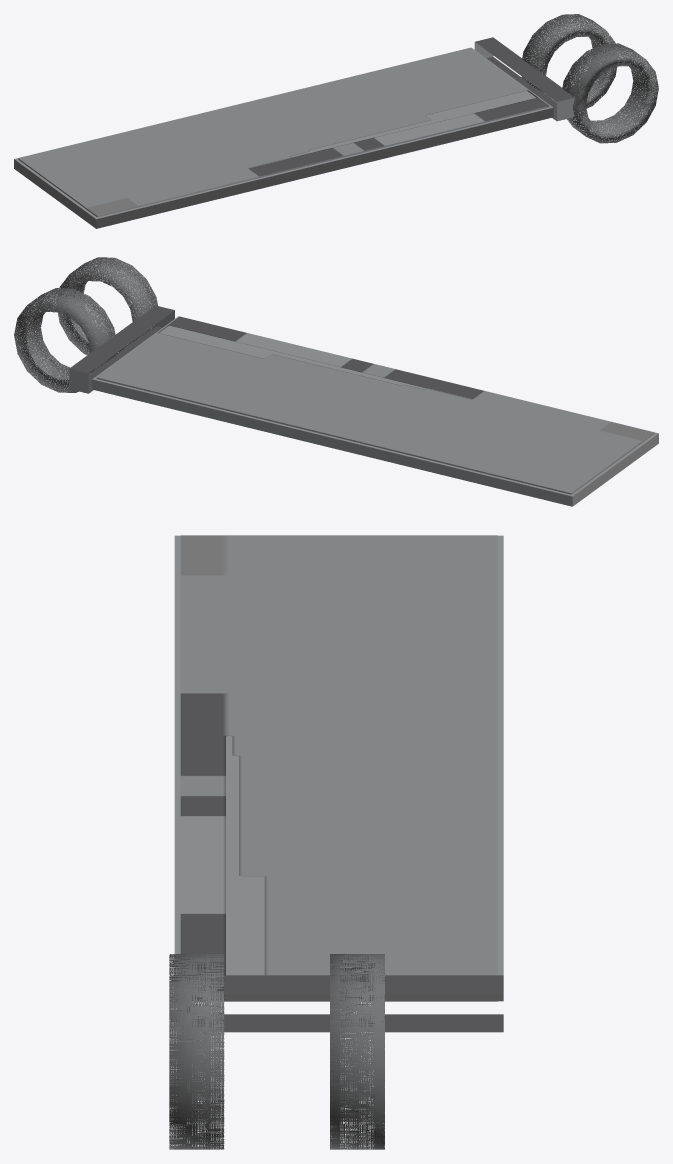
3 views of the same model, one above another, from view 1: azimuth 30°, elevation 25°; view 2: azimuth 150°, elevation 25°; view 3: azimuth 270°, elevation 25° (orthographic). The views are drawn at different scales.
Size of the model in its own units: 0.847 by 0.128 by 0.2185.
